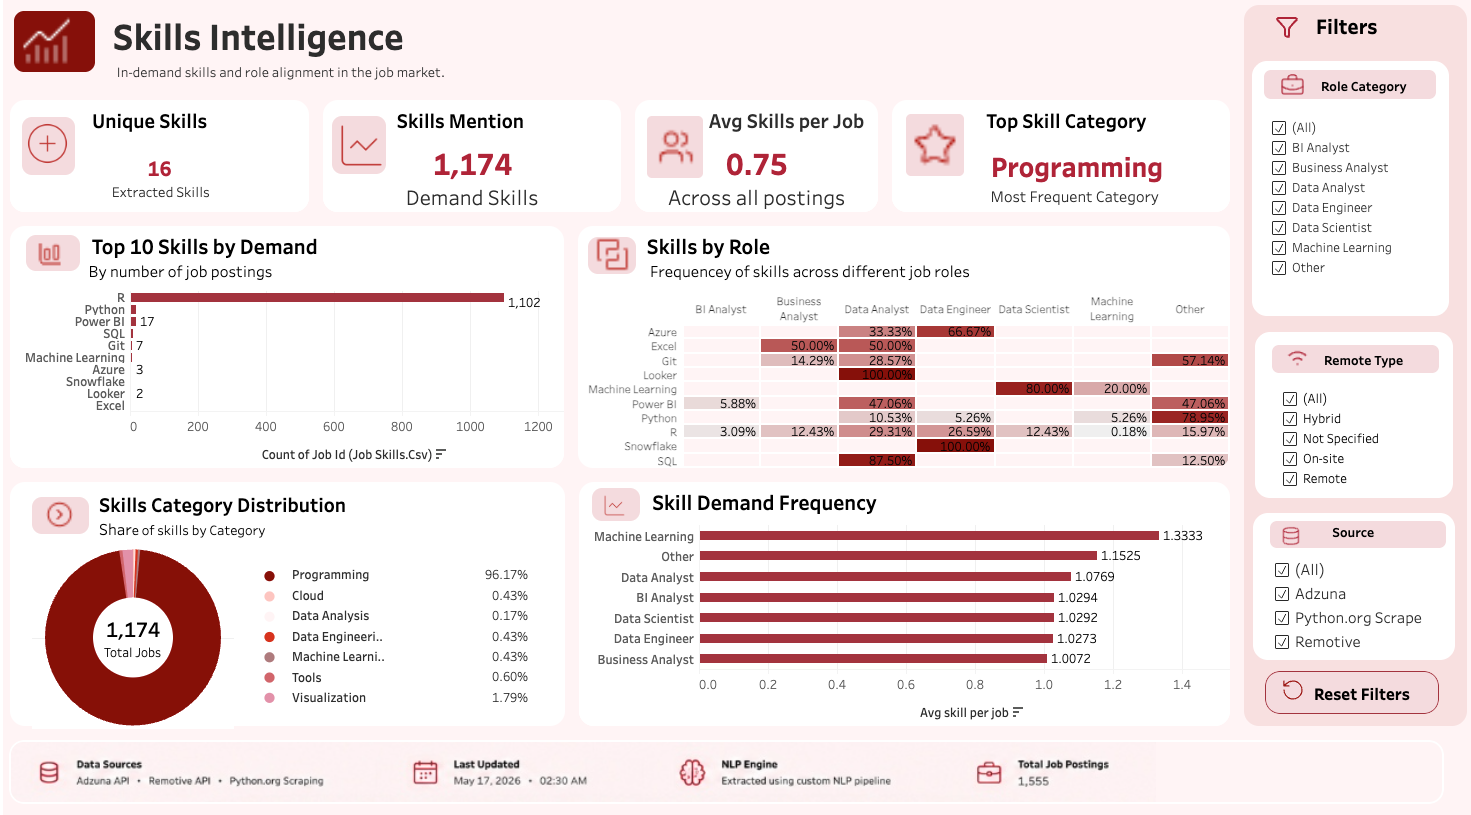

Layout of this report page (visuals, bound fields, positions):
{"tool":"tableau","page":{"name":"Skills Intelligence","canvas":[1000,1000],"units":"permille","ordinal":1},"visuals":[{"type":"title","box":[5.3,9.2,829.7,108.8]},{"type":"image","param":"Image/chart-no-axes-combined (1).png","box":[16,27.6,47.4,66.5]},{"type":"text","box":[888.2,27.6,66.2,30.7]},{"type":"image","param":"Image/funnel.png","box":[861,29.7,21.3,28.7]},{"type":"text","box":[892,98.3,73.5,30.7]},{"type":"image","param":"Image/briefcase-business (1).png","box":[864.1,99.3,19.1,30.7]},{"type":"worksheet","title":"Unique Skills","mark":"Automatic","box":[5.3,118,210.1,144.3]},{"type":"worksheet","title":"Skills Mention","mark":"Automatic","box":[215.5,118,210.1,144.3]},{"type":"worksheet","title":"Avg Skills per Job","mark":"Automatic","box":[425.8,118,171.5,144.3]},{"type":"worksheet","title":"Top Skill Category","mark":"Automatic","box":[597.3,118,237.8,144.3]},{"type":"image","param":"Image/users.png","box":[438.3,122.8,24,34.8]},{"type":"image","param":"Image/chart-line.png","box":[228.2,125.9,26.7,35.8]},{"type":"image","param":"Image/star.png","box":[613.7,125.9,23.4,34.8]},{"type":"image","param":"Image/circle-plus.png","box":[16,131,27.4,38.9]},{"type":"filter","title":"RC filter","param":"[federated.1xmdcs10bw2z8q12p8xnv09uatzz].[none:role_category:nk]","box":[855.9,152.5,106.7,176.1]},{"type":"worksheet","title":"rc filter","mark":"Automatic","box":[977.2,194.5,2.2,2]},{"type":"image","param":"Image/squares-exclude.png","box":[402.3,248.7,24,42]},{"type":"image","param":"Image/chart-column-big.png","box":[23.4,255.9,23.4,32.8]},{"type":"worksheet","title":"Top 10 Skills by Demand","mark":"Automatic","rows":["skill"],"cols":["job_id (job_skills.csv)"],"box":[5.3,262.3,382.2,315]},{"type":"worksheet","title":"Skills by Role","mark":"Square","rows":["skill"],"cols":["role_category (job_skills.csv)"],"box":[387.6,262.3,447.5,315]},{"type":"worksheet","title":"RC filter","mark":"Automatic","box":[941.2,333.7,23.1,19.4]},{"type":"image","param":"Image/wifi-high.png","box":[863.9,364.4,26.7,35.8]},{"type":"text","box":[894.9,370.5,73.5,30.7]},{"type":"filter","title":"RT filter","param":"[federated.1xmdcs10bw2z8q12p8xnv09uatzz].[none:remote_type:nk]","box":[861.9,413.5,106.1,120.8]},{"type":"text","box":[70.7,530.2,219.5,71.7]},{"type":"image","param":"Image/chart-line.png","box":[404.3,542.5,22.7,29.7]},{"type":"image","param":"Image/circle-chevron-right.png","box":[34,544.5,28,32.8]},{"type":"worksheet","title":"Skill Demand Frequency","mark":"Bar","rows":["role_category (job_skills.csv)"],"cols":["Calculation_1876597768294428"],"box":[387.8,577.3,447.2,314.4]},{"type":"text","box":[886.9,581.4,83,30.7]},{"type":"image","param":"Image/database.png","box":[865.9,584.4,19.4,24.6]},{"type":"worksheet","title":"Skills Category Distribution","mark":"Pie","rows":["Calculation_1876595963170841","Calculation_1876595963191323"],"box":[18.7,605.9,150.1,247.7]},{"type":"filter","title":"source filter","param":"[federated.1xmdcs10bw2z8q12p8xnv09uatzz].[none:source:nk]","box":[857.9,617.2,114.1,122.8]},{"type":"worksheet","title":"source filter","mark":"Automatic","box":[954.5,622.3,5.9,12.3]},{"type":"worksheet","title":"SC legend (2)","mark":"Automatic","rows":["skill_category"],"box":[196.8,646.9,165.4,172]},{"type":"worksheet","title":"SC legend","mark":"Circle","rows":["skill_category"],"box":[174.8,651,26,169.9]},{"type":"worksheet","title":"RT filter","mark":"Automatic","box":[957.7,682.7,16.5,32.8]},{"type":"text","box":[886.6,786.1,73.4,30.7]},{"type":"image","param":"Image/rotate-ccw.png","box":[861.9,788.1,20.7,29.7]},{"type":"image","param":"Image/Screenshot 2026-05-28 at 2.11.57 PM.png","box":[9.6,900.7,964.7,76.8]}]}

Visuals, with their boxes on the dashboard's canvas, which has no fixed pixel size, in thousandths of its width and height (x1, y1, x2, y2). These are canvas units, not pixel positions in the 1471x815 screenshot, which may show the page scaled, cropped or inside an application window:
title: x1=5 y1=9 x2=835 y2=118
image: x1=16 y1=28 x2=63 y2=94
text: x1=888 y1=28 x2=954 y2=58
image: x1=861 y1=30 x2=882 y2=58
text: x1=892 y1=98 x2=966 y2=129
image: x1=864 y1=99 x2=883 y2=130
"Unique Skills" worksheet: x1=5 y1=118 x2=215 y2=262
"Skills Mention" worksheet: x1=216 y1=118 x2=426 y2=262
"Avg Skills per Job" worksheet: x1=426 y1=118 x2=597 y2=262
"Top Skill Category" worksheet: x1=597 y1=118 x2=835 y2=262
image: x1=438 y1=123 x2=462 y2=158
image: x1=228 y1=126 x2=255 y2=162
image: x1=614 y1=126 x2=637 y2=161
image: x1=16 y1=131 x2=43 y2=170
"RC filter" filter: x1=856 y1=152 x2=963 y2=329
"rc filter" worksheet: x1=977 y1=194 x2=979 y2=196
image: x1=402 y1=249 x2=426 y2=291
image: x1=23 y1=256 x2=47 y2=289
"Top 10 Skills by Demand" worksheet: x1=5 y1=262 x2=388 y2=577
"Skills by Role" worksheet (Square marks): x1=388 y1=262 x2=835 y2=577
"RC filter" worksheet: x1=941 y1=334 x2=964 y2=353
image: x1=864 y1=364 x2=891 y2=400
text: x1=895 y1=370 x2=968 y2=401
"RT filter" filter: x1=862 y1=414 x2=968 y2=534
text: x1=71 y1=530 x2=290 y2=602
image: x1=404 y1=542 x2=427 y2=572
image: x1=34 y1=544 x2=62 y2=577
"Skill Demand Frequency" worksheet (Bar marks): x1=388 y1=577 x2=835 y2=892
text: x1=887 y1=581 x2=970 y2=612
image: x1=866 y1=584 x2=885 y2=609
"Skills Category Distribution" worksheet (Pie marks): x1=19 y1=606 x2=169 y2=854
"source filter" filter: x1=858 y1=617 x2=972 y2=740
"source filter" worksheet: x1=954 y1=622 x2=960 y2=635
"SC legend (2)" worksheet: x1=197 y1=647 x2=362 y2=819
"SC legend" worksheet (Circle marks): x1=175 y1=651 x2=201 y2=821
"RT filter" worksheet: x1=958 y1=683 x2=974 y2=716
text: x1=887 y1=786 x2=960 y2=817
image: x1=862 y1=788 x2=883 y2=818
image: x1=10 y1=901 x2=974 y2=978
